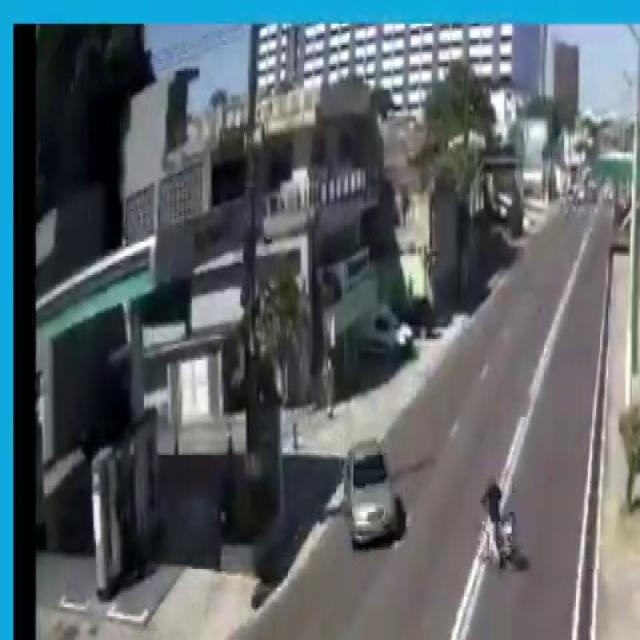car: (336, 437, 406, 567)
people: (480, 470, 512, 574)
